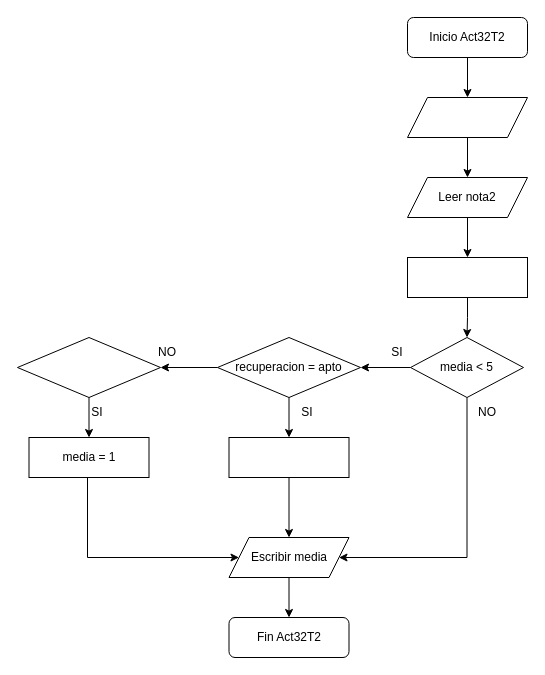
This 545x675 diagram has some shape labels left out. Here are the shapes that lost their labels. From the top down, the box of each, then its label:
(406, 96, 528, 138): Leer nota1
(406, 256, 528, 298): media = (nota1+nota2)/2
(16, 336, 160, 398): recuperacion = no apto
(228, 436, 349, 478): media = 5
